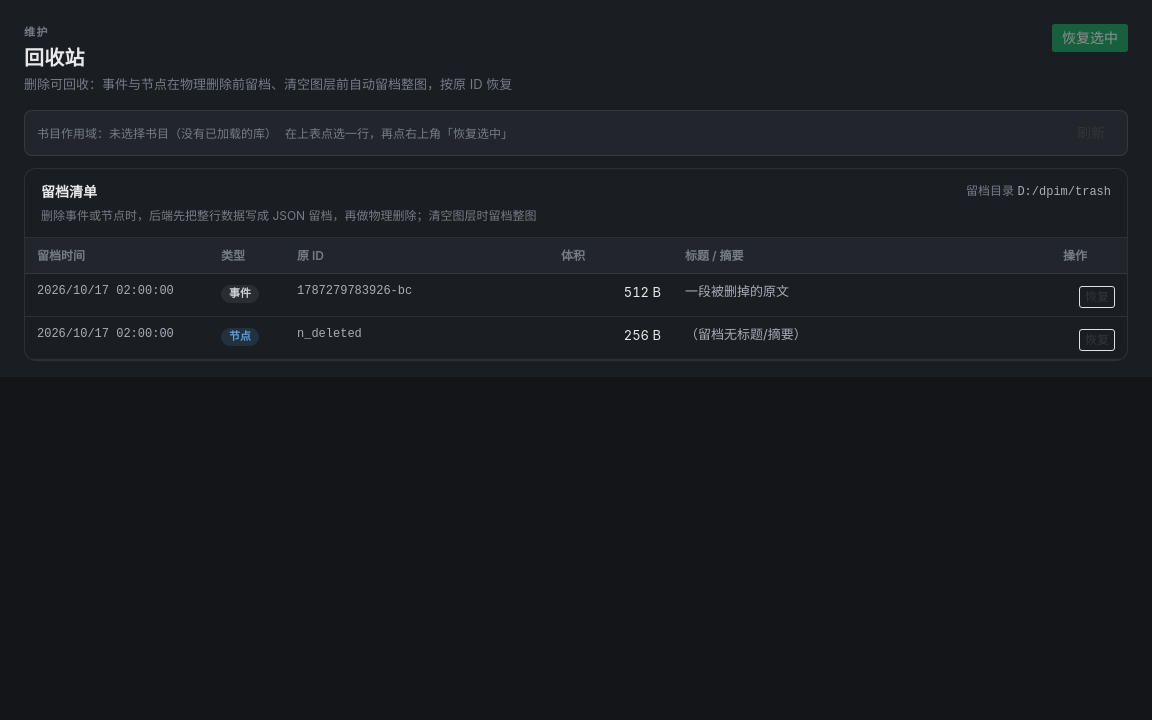
Test case: TrashPage（回收站） › 确认后调恢复接口（带库作用域），并把结果留在「上次恢复结果」里
Click the row "2026/10/17 02:00:00 事件 1787279783926-bc 512 B 一段被删掉的原文 恢复" at [576, 296], box [25, 274, 1127, 317]
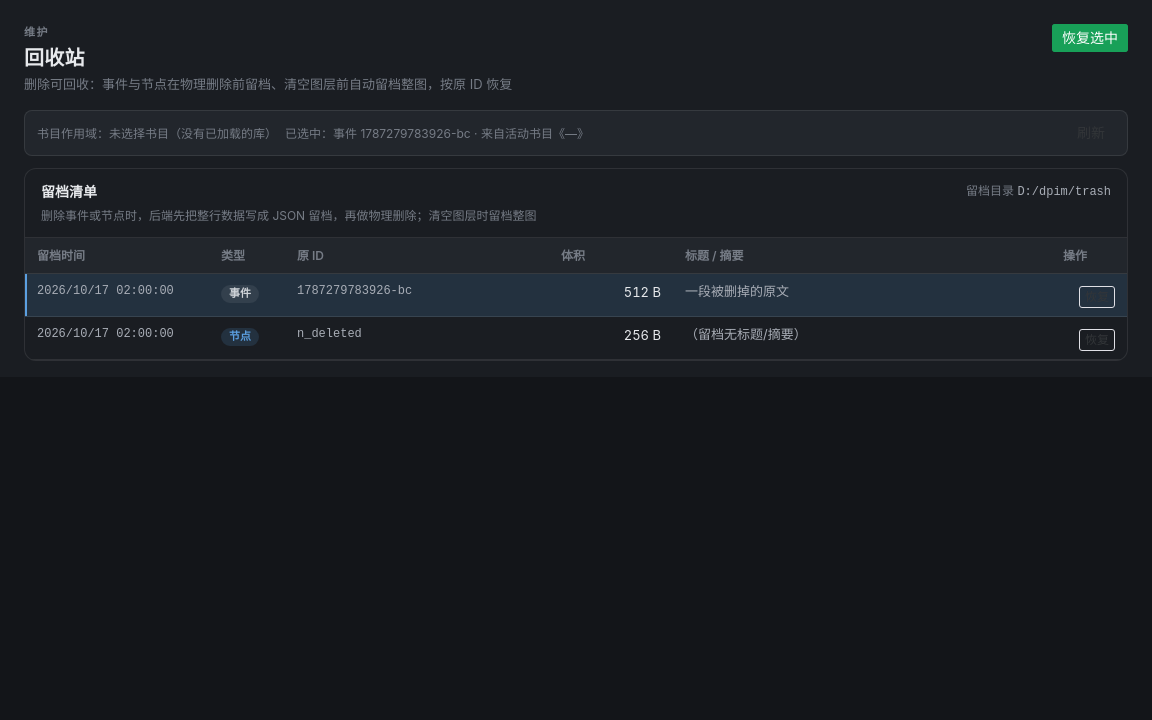
Click the button "恢复选中" at [1090, 38], box [1052, 24, 1128, 52]
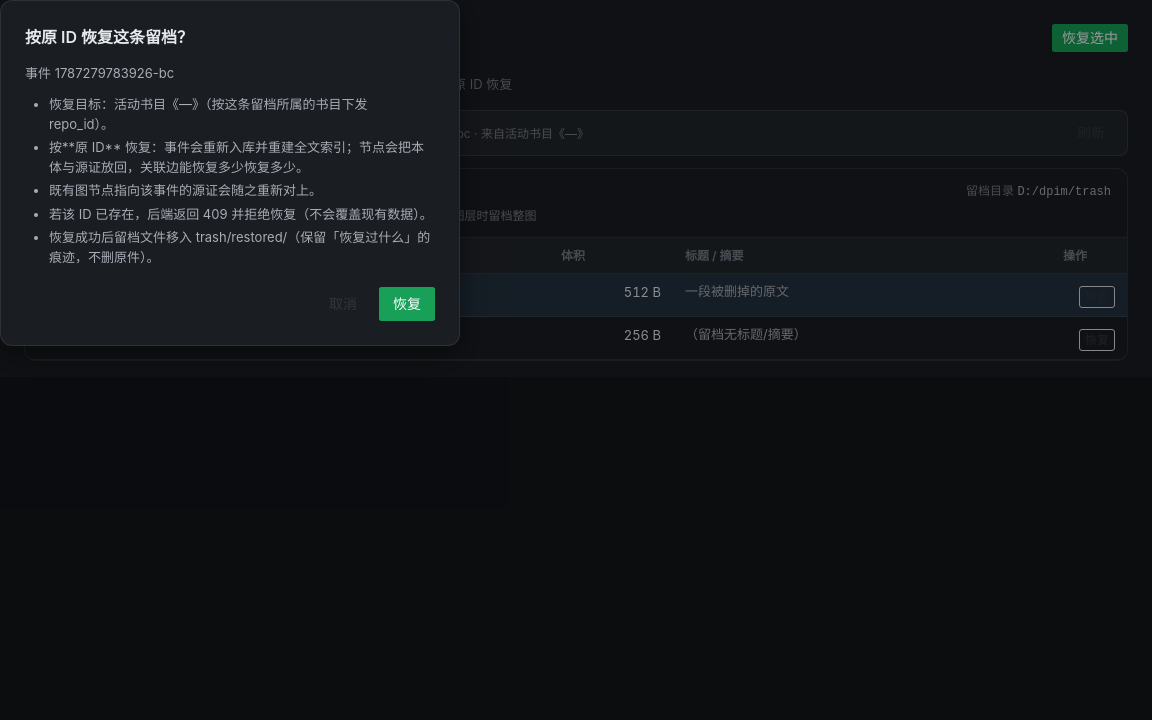
Click the button "恢复" at [407, 304], box [379, 287, 435, 321]
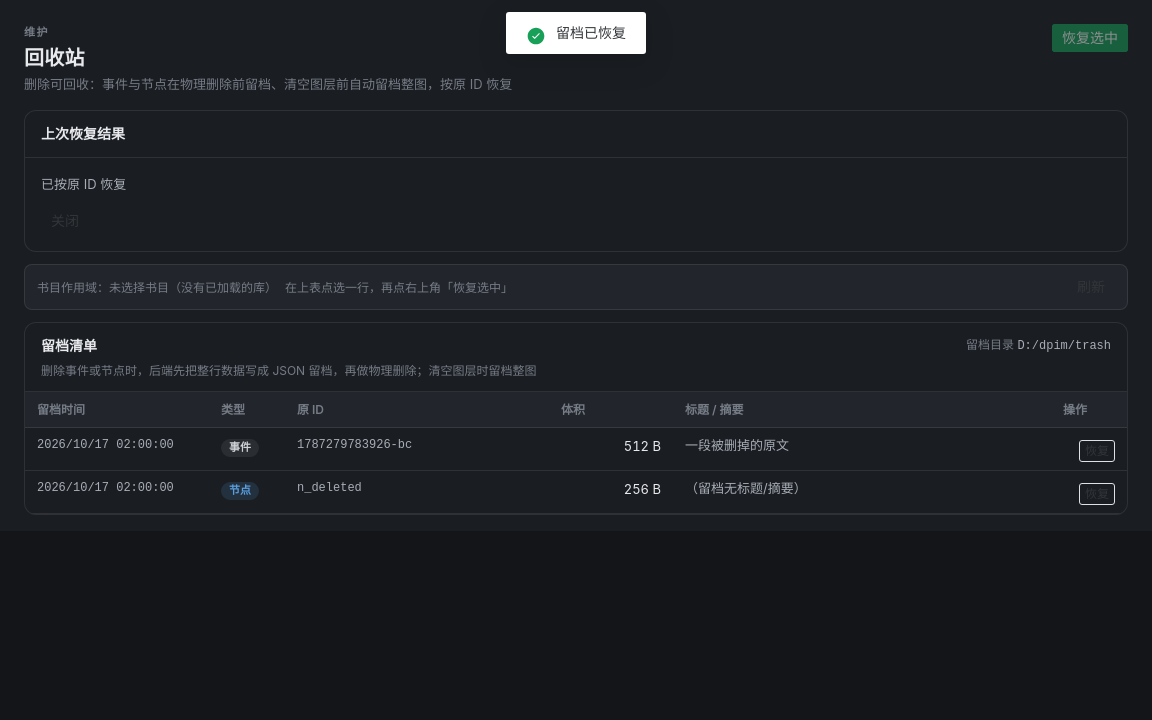
Now the text "已按原 ID 恢复" is shown, box [41, 176, 126, 192]
